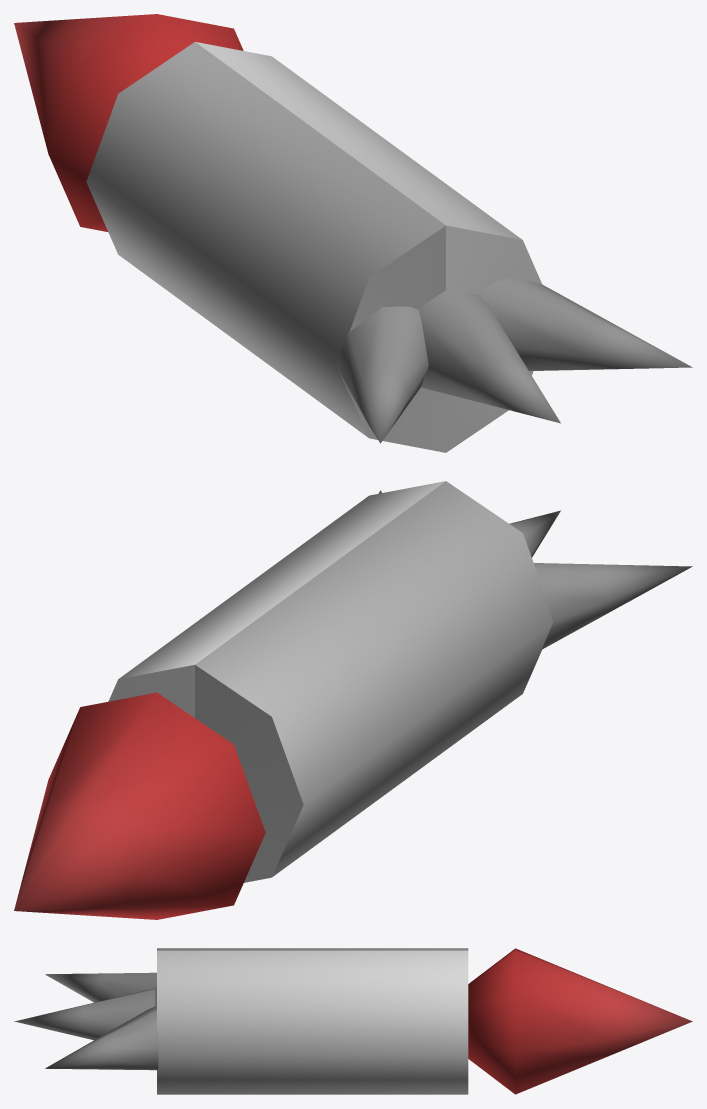
Rendered from Missile.obj.
The picture shows the model from 3 angles, top to bottom: view 1: azimuth 30°, elevation 25°; view 2: azimuth 150°, elevation 25°; view 3: azimuth 270°, elevation 25°; orthographic projection. The views are drawn at different scales.
Parts seen in each view (by area): view 1: polymsh; view 2: polymsh; view 3: polymsh.
Part boxes in pixels (x1,y1,x2,y2): polymsh: (14, 14, 692, 452); polymsh: (14, 481, 692, 919); polymsh: (14, 948, 692, 1094).
Bounding box in the file's own units: 2.88 × 2 × 8.72.
